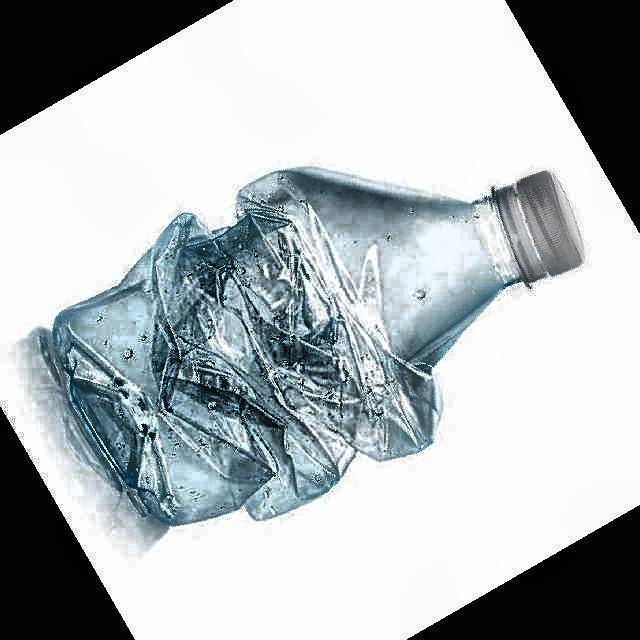plastic: (50, 169, 581, 524)
